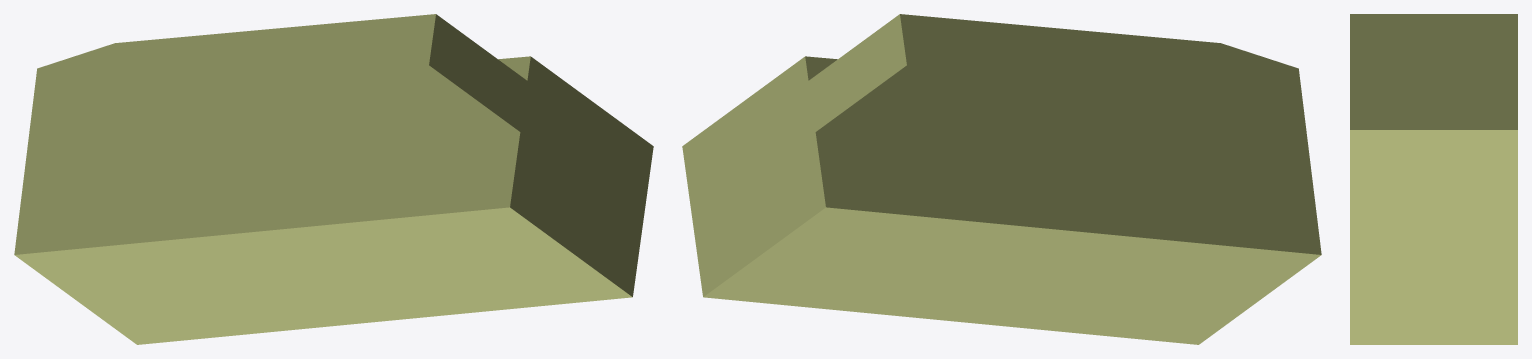
3 renders of one model, left to right at view 1: azimuth 30°, elevation 25°; view 2: azimuth 150°, elevation 25°; view 3: azimuth 270°, elevation 25°, orthographic. The views are drawn at different scales.
Parts seen in each view (by area): view 1: 0_1_0_2_0_0_1; view 2: 0_1_0_2_0_0_1; view 3: 0_1_0_2_0_0_1.
Part boxes in pixels (x1,y1,x2,y2): 0_1_0_2_0_0_1: (14,14,653,344); 0_1_0_2_0_0_1: (682,14,1321,344); 0_1_0_2_0_0_1: (1350,14,1517,344).
Size of the model in its own units: 14.56 by 7.02 by 6.
